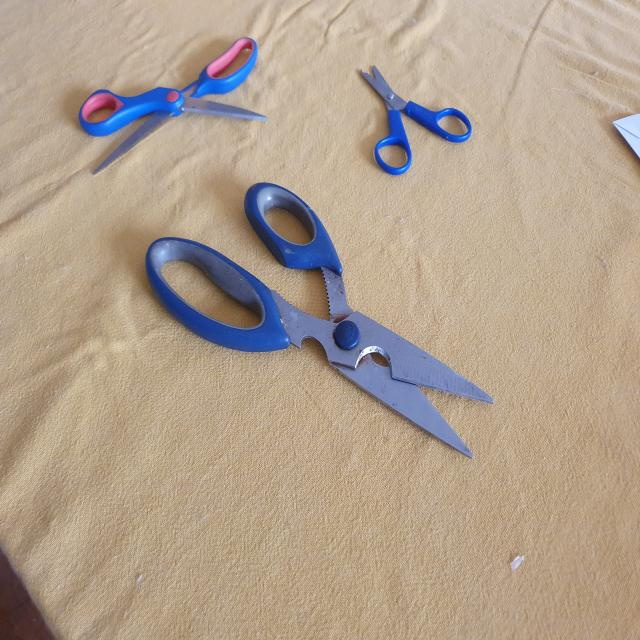scissors: (143, 185, 497, 455), (76, 32, 272, 176), (354, 62, 473, 178)
